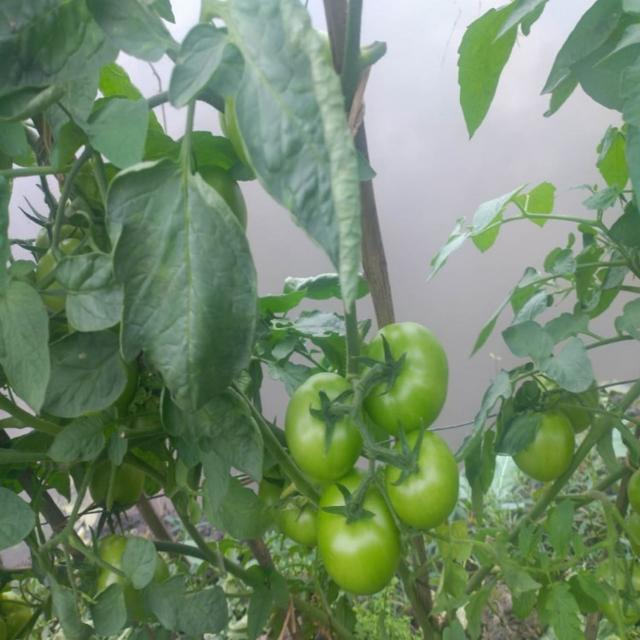tomato: (320, 480, 400, 595), (367, 327, 446, 435), (288, 374, 364, 476), (385, 435, 457, 530), (527, 414, 575, 481), (280, 498, 317, 553), (92, 472, 143, 507), (101, 536, 124, 589)
